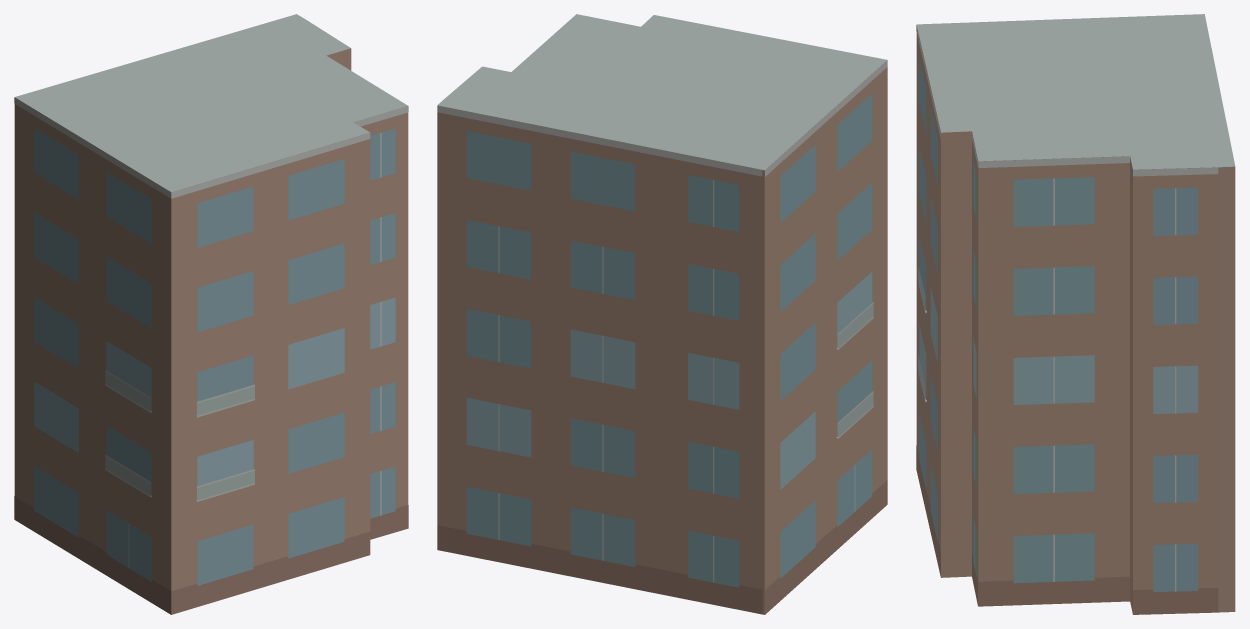
File: survey-upis-32536352.glb
3 views of the same model, side by side, from view 1: azimuth 30°, elevation 25°; view 2: azimuth 150°, elevation 25°; view 3: azimuth 270°, elevation 25° (orthographic). The views are drawn at different scales.
Parts seen in each view (by area): view 1: survey-upis-32536352.tmp; view 2: survey-upis-32536352.tmp; view 3: survey-upis-32536352.tmp.
Boxes of the visible parts, x1,y1,x2,y2 form: survey-upis-32536352.tmp: (14, 14, 408, 614); survey-upis-32536352.tmp: (437, 14, 887, 614); survey-upis-32536352.tmp: (916, 14, 1235, 614).
Bounding box in the file's own units: 11.93 × 15.9 × 10.33.
